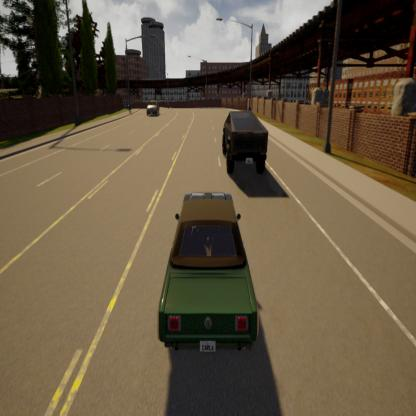Cars: (154, 188, 266, 364), (216, 103, 274, 182), (146, 97, 160, 121)
